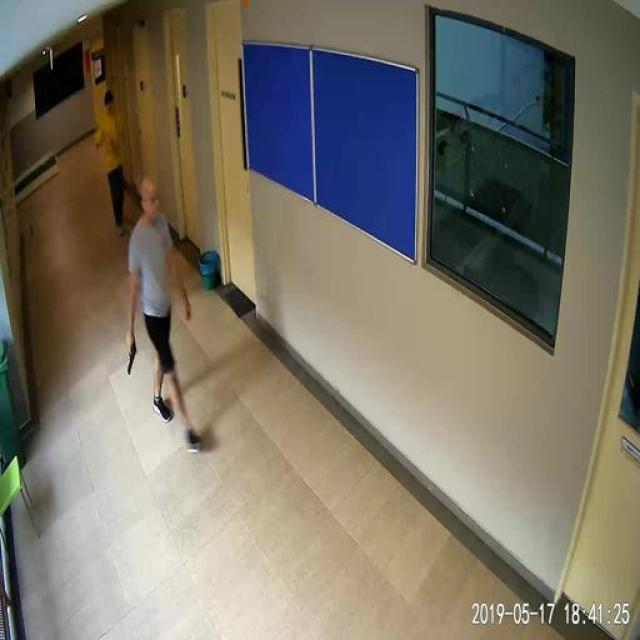Gun: (125, 335, 135, 373)
